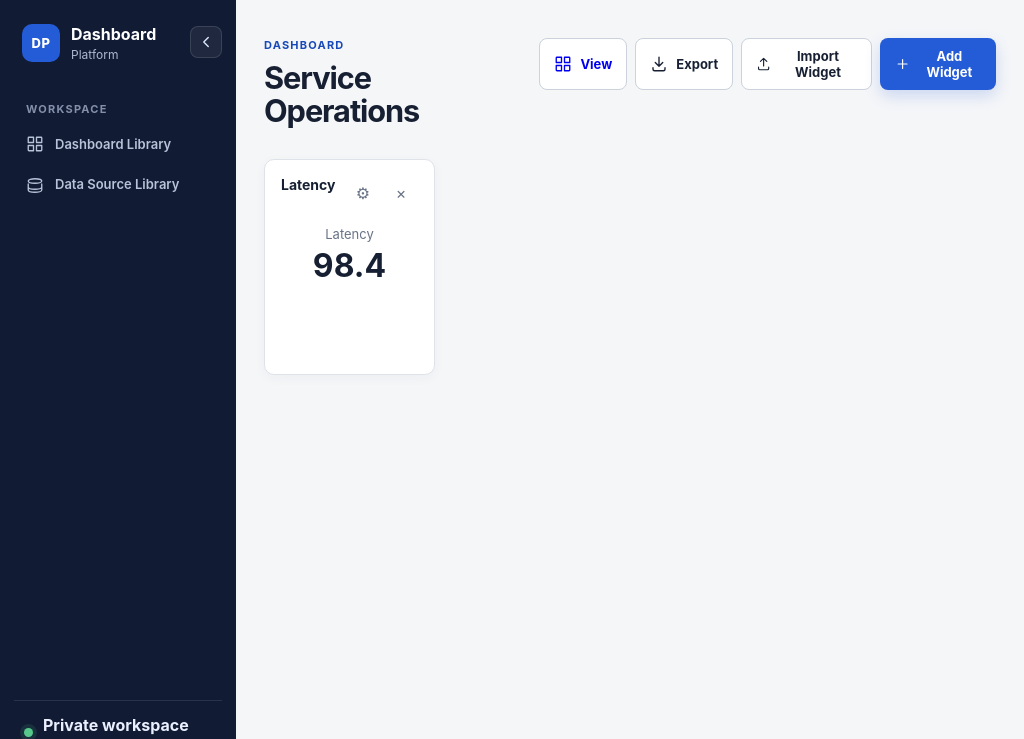
Test: DashboardEditor › opens the edit panel from a widget card and saves changes through updateWidget
Click the element "Latency" at [350, 267], box [264,159,435,375]
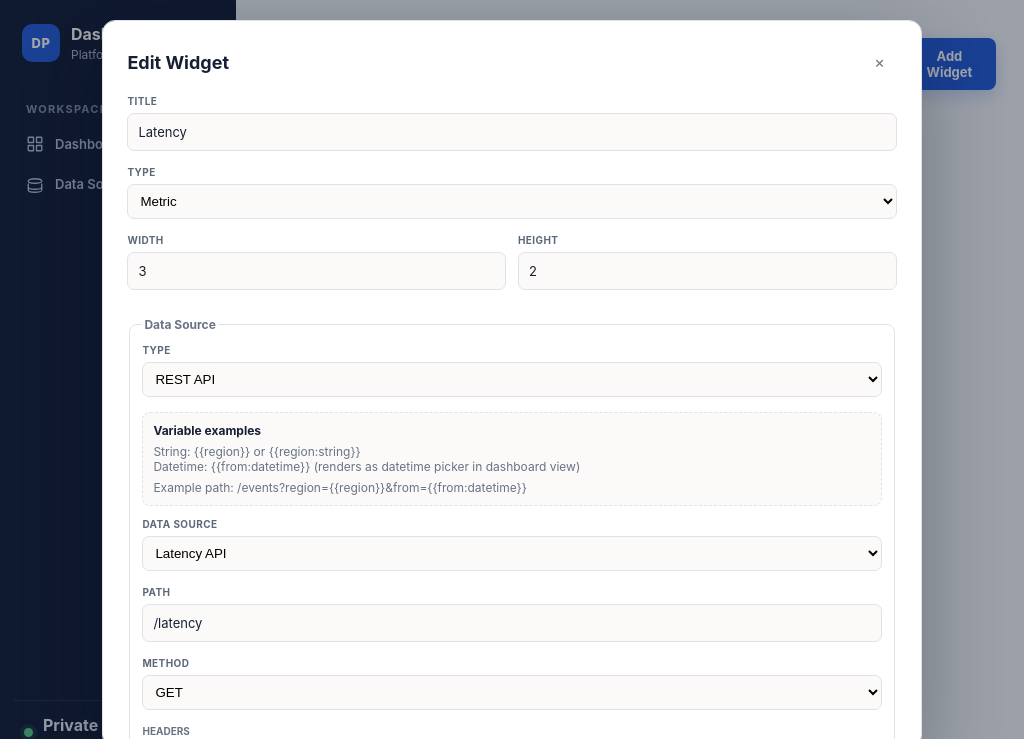
Replace the text in the field labelled "Title" with "Latency P95" at [512, 132], box [127,113,897,151]
(page scrolled)
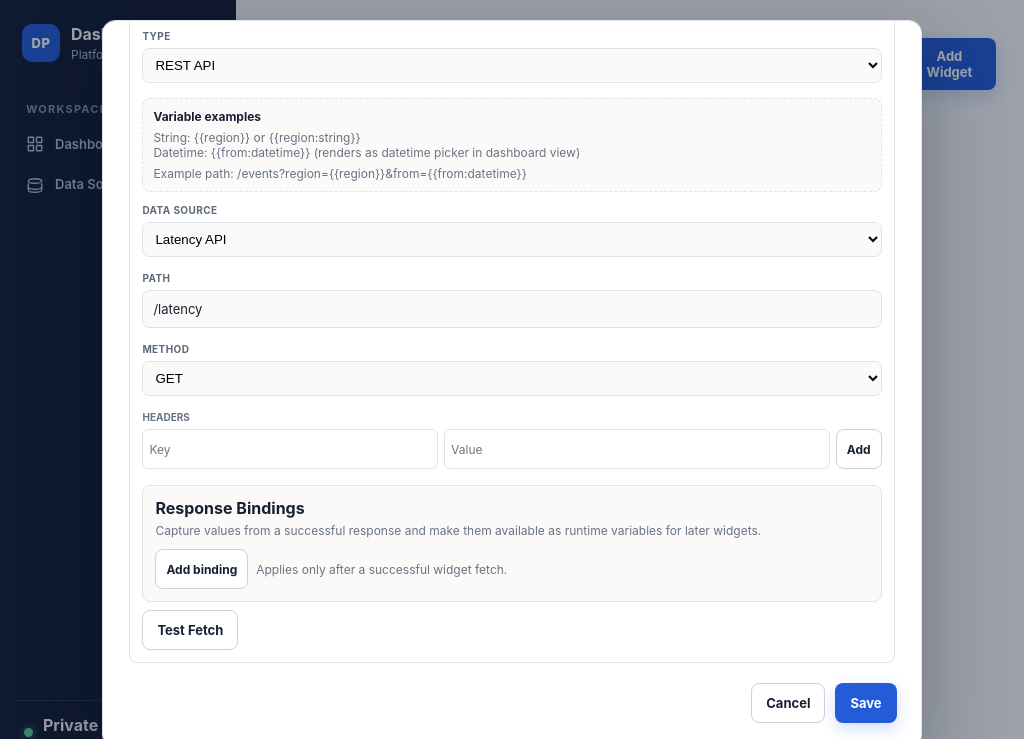
Click the button "Save" at [866, 703], box [835,683,897,723]
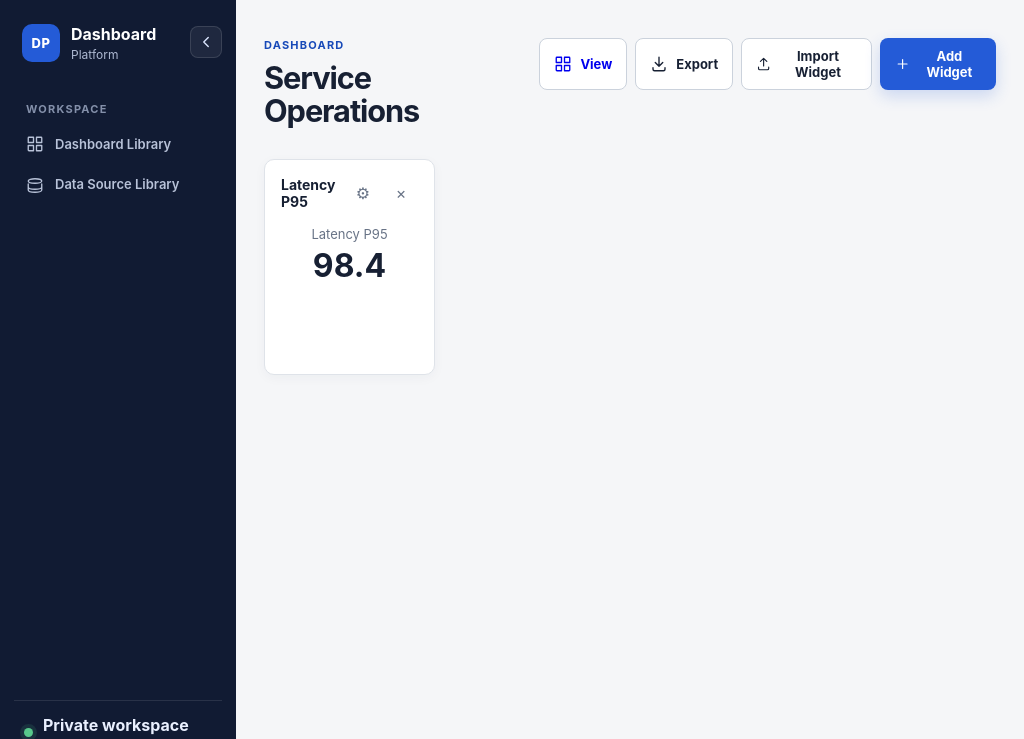
expect the heading "Latency P95" is shown: met, box [281,176,336,210]
